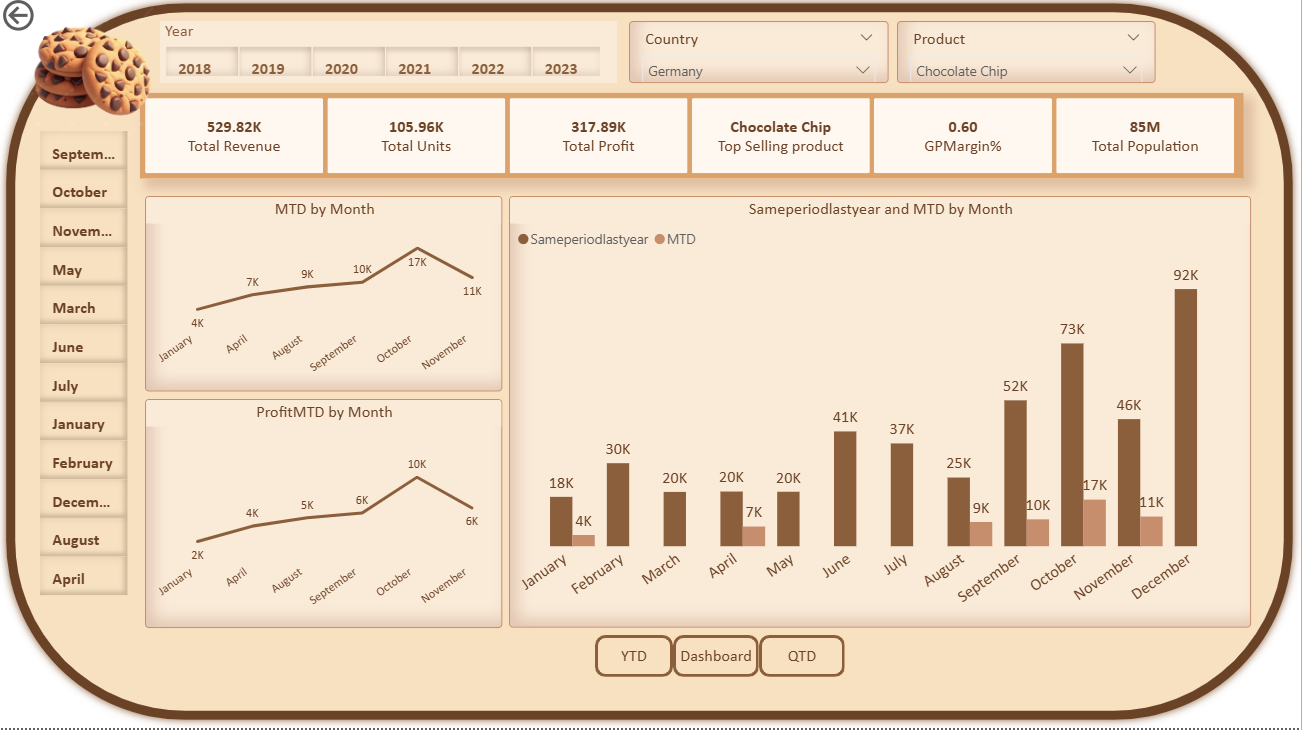

What the dashboard file says about the page in this screenshot:
{"tool":"powerbi","page":{"name":"MTD PROFIT AND REVENEW","canvas":[1280,720],"ordinal":3},"visuals":[{"type":"shape","box":[0,0,1280,720.1],"z":0},{"type":"advancedSlicerVisual","fields":{"Values":["Test.Month Name"]},"box":[36.3,128.7,96.3,469.6],"z":1000},{"type":"slicer","fields":{"Values":["CookieSales.Product"]},"box":[883.1,25.5,254.4,60.9],"z":2000},{"type":"slicer","fields":{"Values":["CookieSales.Country"]},"box":[619.9,25.5,255.4,60.9],"z":3000},{"type":"cardVisual","fields":{"Data":["CookieSales.Total Revenue","CookieSales.Total Units","CookieSales.TotalProfit","CookieSales.Best Cookie by Revenue","CookieSales.GPMargin%","CookieSales.Total Population"]},"box":[139.5,96.3,1083.5,84.5],"z":4000},{"type":"actionButton","box":[663.1,628.7,84.5,41.3],"z":5000},{"type":"actionButton","box":[747.6,628.7,84.5,41.3],"z":6000},{"type":"actionButton","box":[586.5,628.7,76.6,41.3],"z":7000},{"type":"clusteredColumnChart","fields":{"Y":["CookieSales.Sameperiodlastyear","CookieSales.MTD"],"Category":["Test.Date.Variation.Date Hierarchy.Month"]},"box":[502,197.5,728.9,424.4],"z":8000},{"type":"lineChart","fields":{"Y":["CookieSales.ProfitMTD"],"Category":["Test.Date.Variation.Date Hierarchy.Month"]},"box":[144.4,396.9,350.7,225],"z":9000},{"type":"actionButton","box":[0,0,100,40],"z":10000},{"type":"advancedSlicerVisual","fields":{"Values":["Test.Date.Variation.Date Hierarchy.Year"]},"box":[159.1,25.5,448.9,60.9],"z":11000},{"type":"lineChart","fields":{"Category":["Test.Date.Variation.Date Hierarchy.Month"],"Y":["CookieSales.MTD"]},"box":[144.5,197.7,351.1,192.4],"z":12000},{"type":"image","box":[4.9,5.9,151.3,119.8],"z":13000}]}

Visuals, with their boxes in screenshot pixels (x1, y1, x2, y2), scaled from the page's 1280x720 canvas onto the 1307x730 screenshot:
shape: x1=0, y1=0, x2=1306, y2=729
advancedSlicerVisual - Test.Month Name: x1=37, y1=130, x2=135, y2=607
slicer - CookieSales.Product: x1=902, y1=26, x2=1161, y2=88
slicer - CookieSales.Country: x1=633, y1=26, x2=894, y2=88
cardVisual - CookieSales.Total Revenue x CookieSales.Total Units: x1=142, y1=98, x2=1249, y2=183
actionButton: x1=677, y1=637, x2=763, y2=679
actionButton: x1=763, y1=637, x2=850, y2=679
actionButton: x1=599, y1=637, x2=677, y2=679
clusteredColumnChart - CookieSales.Sameperiodlastyear x CookieSales.MTD: x1=513, y1=200, x2=1257, y2=631
lineChart - CookieSales.ProfitMTD x Test.Date.Variation.Date Hierarchy.Month: x1=147, y1=402, x2=506, y2=631
actionButton: x1=0, y1=0, x2=102, y2=41
advancedSlicerVisual - Test.Date.Variation.Date Hierarchy.Year: x1=162, y1=26, x2=621, y2=88
lineChart - Test.Date.Variation.Date Hierarchy.Month x CookieSales.MTD: x1=148, y1=200, x2=506, y2=396
image: x1=5, y1=6, x2=159, y2=127
